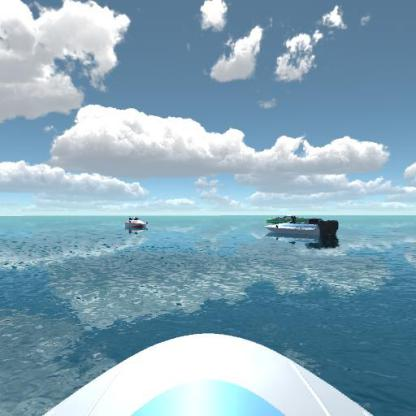usv0: (262, 210, 296, 226), (290, 215, 317, 224)
usv1: (264, 219, 341, 250)
usv3: (122, 214, 153, 234)
